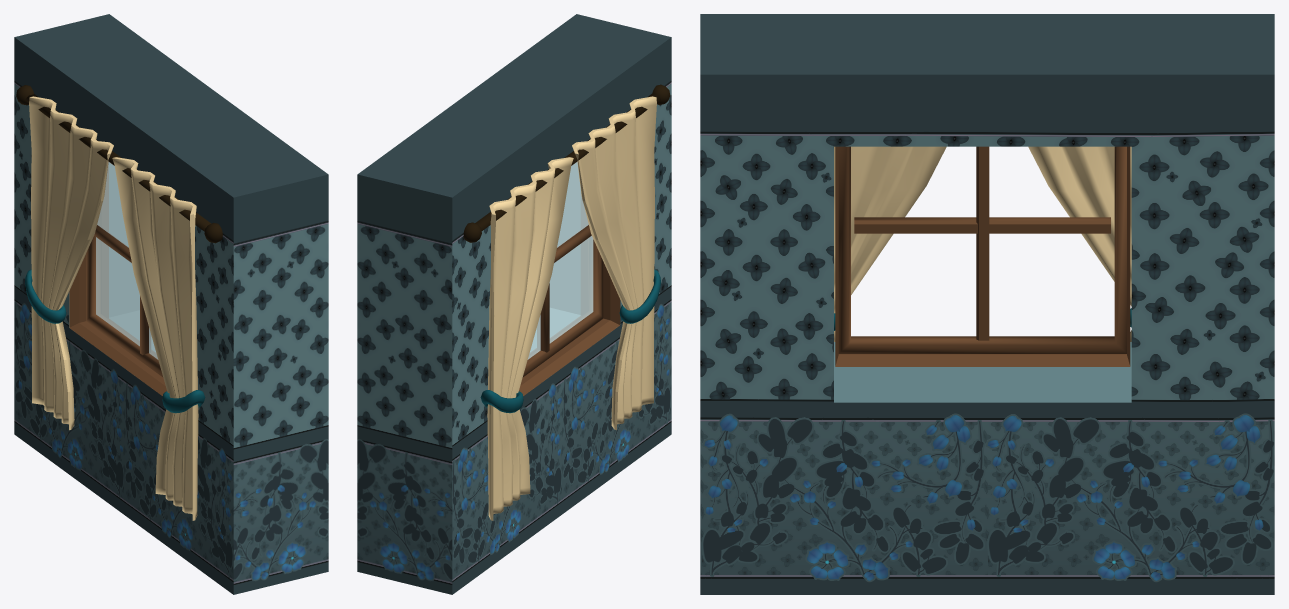
File: 087_088_wall_window.glb
3 views of the same model, side by side, from view 1: azimuth 30°, elevation 25°; view 2: azimuth 150°, elevation 25°; view 3: azimuth 270°, elevation 25° (orthographic). The views are drawn at different scales.
Visible parts, largest first — view 1: layout_88_base, layout_88_curtain, layout_88_curtainrope; view 2: layout_88_base, layout_88_curtain, layout_88_curtainrope; view 3: layout_88_base, layout_88_curtain.
Boxes of the visible parts, box(x1,y1,x2,y2) form: layout_88_base: box(14, 14, 328, 594); layout_88_curtain: box(29, 96, 198, 520); layout_88_curtainrope: box(25, 269, 205, 413); layout_88_base: box(357, 14, 671, 594); layout_88_curtain: box(487, 96, 656, 520); layout_88_curtainrope: box(480, 269, 660, 413); layout_88_base: box(700, 14, 1274, 594); layout_88_curtain: box(834, 146, 1131, 341).
Size of the model in its own units: 0.9232 by 3 by 3.
3 materials, 2 textured.
